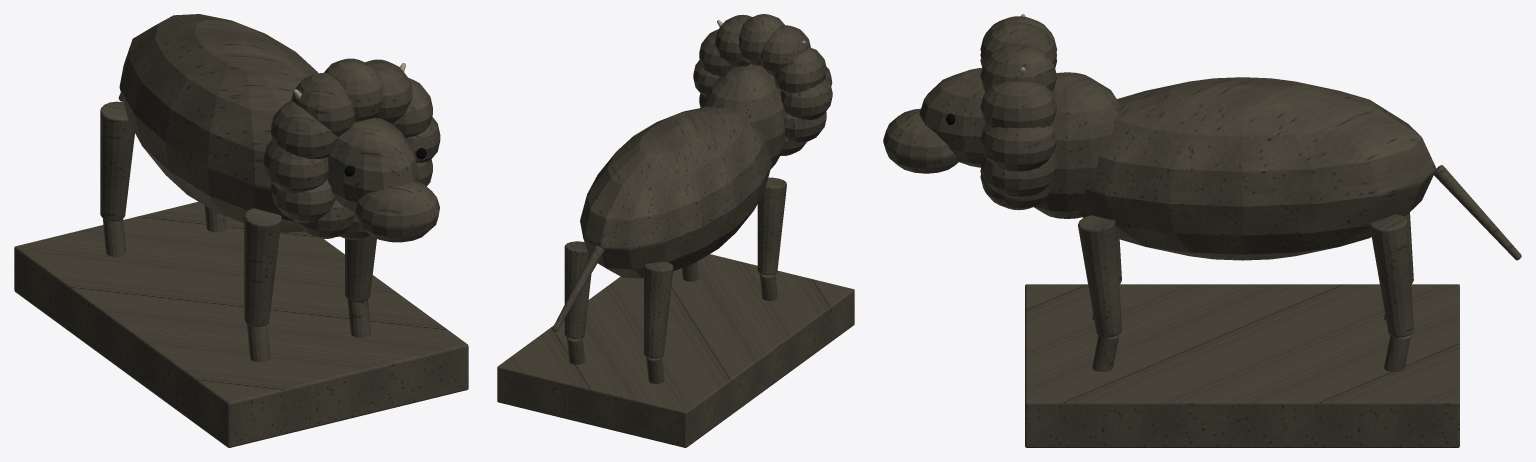
The model's file is PROP-10D1D5456444_lod0.glb.
The picture shows the model from 3 angles, left to right: view 1: azimuth 30°, elevation 25°; view 2: azimuth 150°, elevation 25°; view 3: azimuth 270°, elevation 25°; orthographic projection. The views are drawn at different scales.
Parts seen in each view (by area): view 1: statue_plinth, animal_torso, stone_mane, upper_leg, animal_head, muzzle, lower_leg; view 2: statue_plinth, animal_torso, stone_mane, upper_leg, animal_neck, lower_leg, tail; view 3: statue_plinth, animal_torso, stone_mane, upper_leg, animal_neck, animal_head, muzzle, lower_leg, tail.
Boxes of the visible parts, left/top/right/bottom form: statue_plinth: left=14, top=201, right=468, bottom=447; animal_torso: left=119, top=14, right=318, bottom=232; stone_mane: left=263, top=58, right=440, bottom=239; upper_leg: left=100, top=101, right=376, bottom=326; animal_head: left=327, top=117, right=419, bottom=212; muzzle: left=355, top=181, right=439, bottom=242; lower_leg: left=103, top=205, right=370, bottom=362; statue_plinth: left=497, top=254, right=854, bottom=447; animal_torso: left=580, top=106, right=771, bottom=278; stone_mane: left=693, top=14, right=832, bottom=155; upper_leg: left=564, top=177, right=786, bottom=358; animal_neck: left=701, top=66, right=785, bottom=168; lower_leg: left=567, top=262, right=777, bottom=383; tail: left=552, top=245, right=604, bottom=331; statue_plinth: left=1025, top=284, right=1459, bottom=447; animal_torso: left=1077, top=77, right=1435, bottom=260; stone_mane: left=980, top=16, right=1056, bottom=210; upper_leg: left=1078, top=212, right=1413, bottom=337; animal_neck: left=1034, top=72, right=1119, bottom=218; animal_head: left=919, top=68, right=985, bottom=167; muzzle: left=883, top=108, right=958, bottom=173; lower_leg: left=1092, top=314, right=1410, bottom=371; tail: left=1433, top=165, right=1521, bottom=260.
Size of the model in its own units: 1.1 by 1.57 by 2.49.
3 materials, 3 textured.
